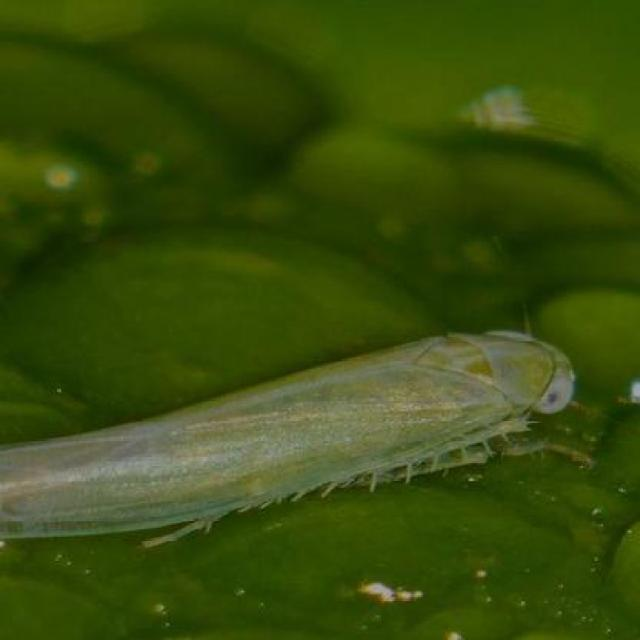green-leafhopper: (0, 329, 578, 543)
